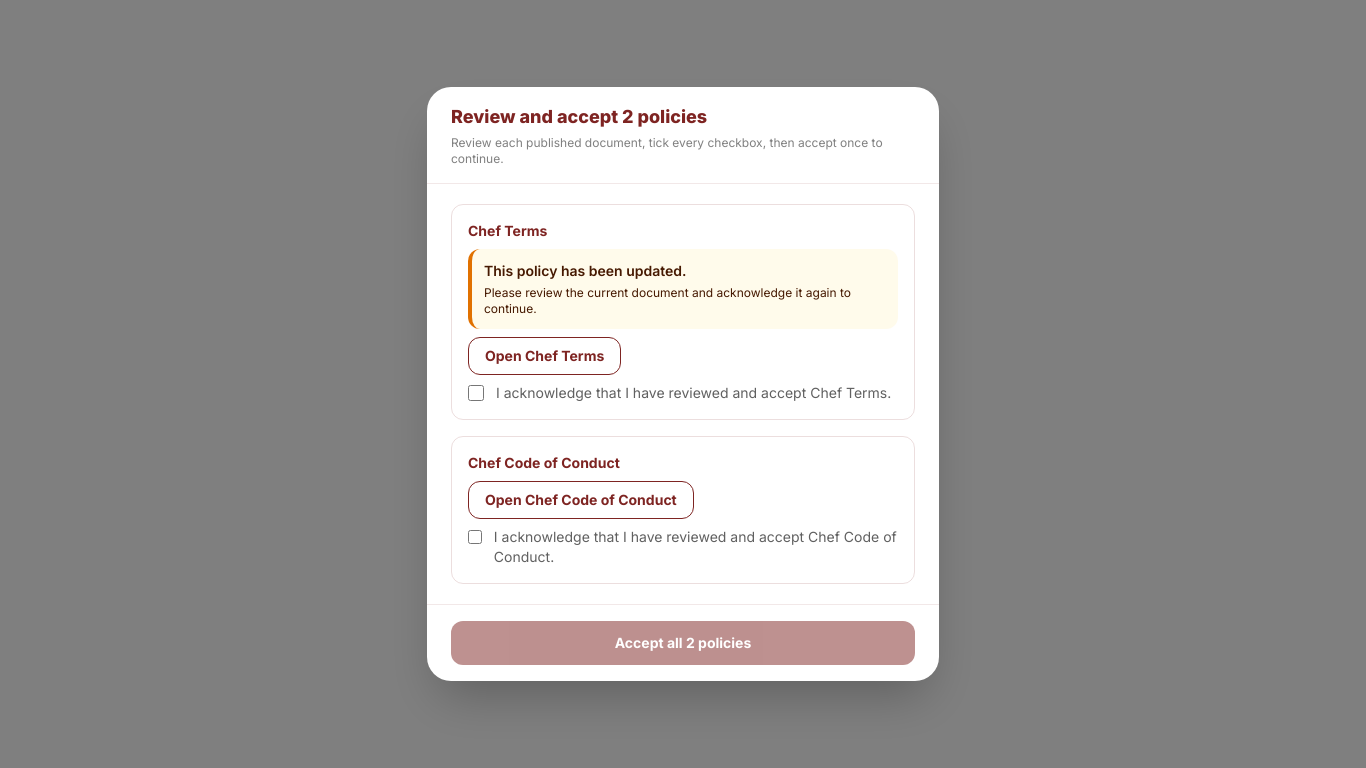
Test: PolicyAcceptanceModal › lists every pending policy at once and accepts them all with a single confirmation
Check: the heading "Review and accept 2 policies" is shown, box [451, 103, 707, 131]
Check: the link "Open Chef Terms" is shown, box [468, 337, 621, 375]
Click the checkbox labelled "I acknowledge that I have reviewed and accept Chef Terms." at (476, 393), box [468, 385, 484, 401]
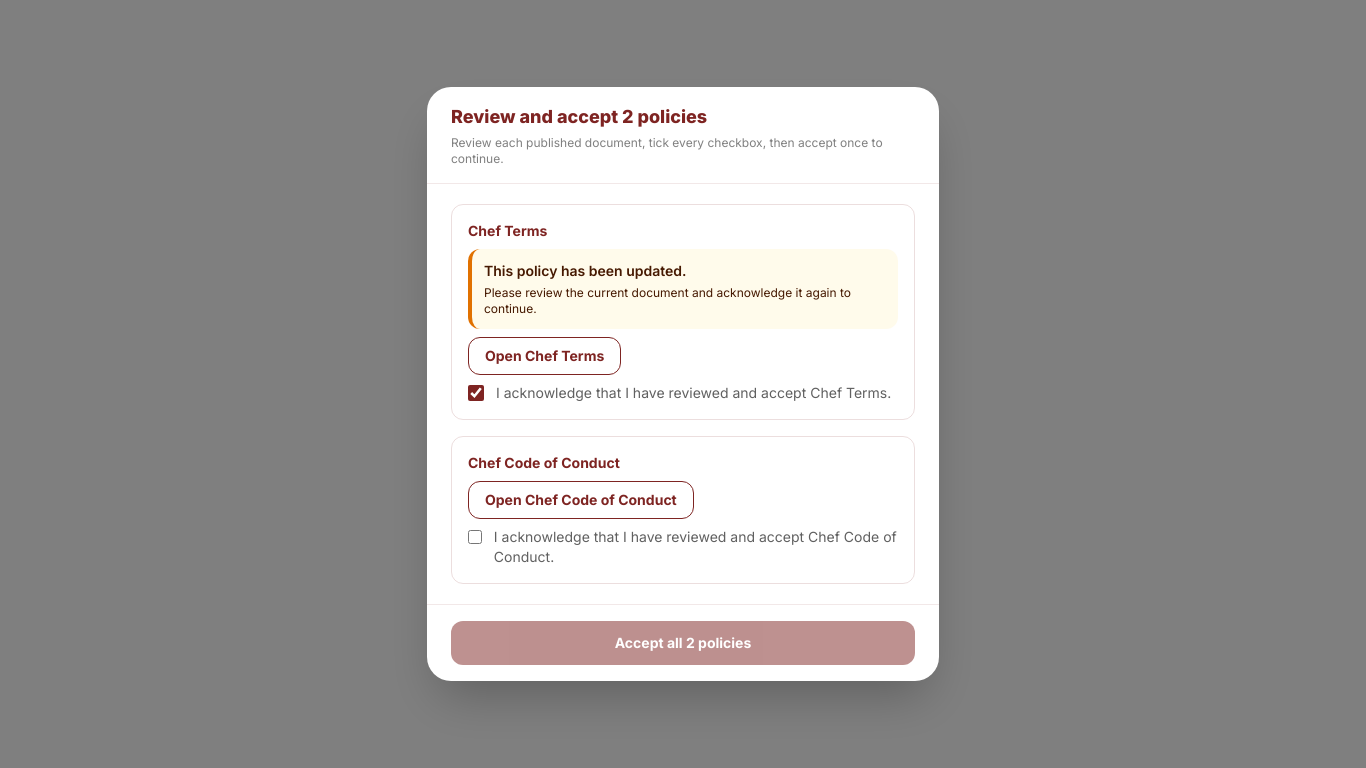
Check: the button "Accept all 2 policies" is disabled, box [451, 621, 915, 665]
Click the checkbox labelled "accept Chef Code of Conduct" at (475, 537), box [468, 529, 482, 545]
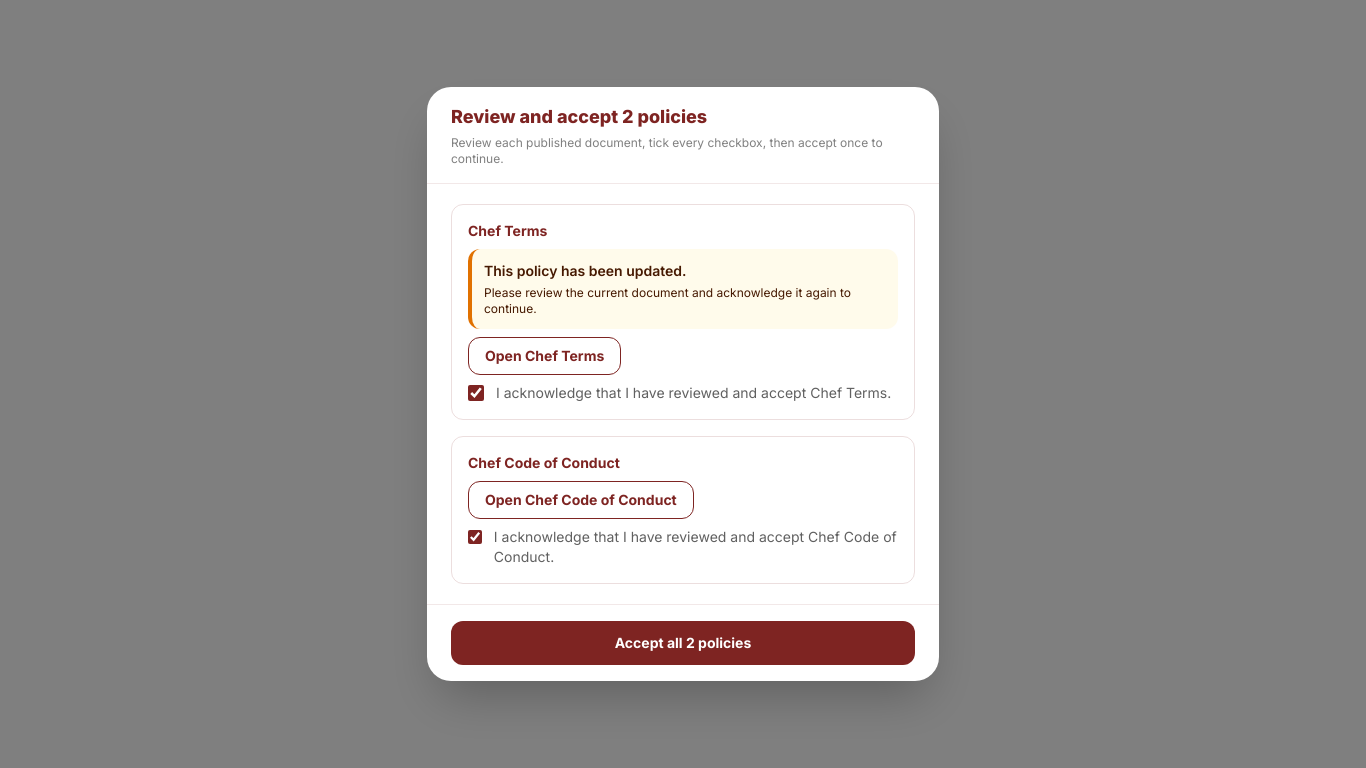
Check: the button "Accept all 2 policies" is enabled
Click the button "Accept all 2 policies" at (683, 643), box [451, 621, 915, 665]
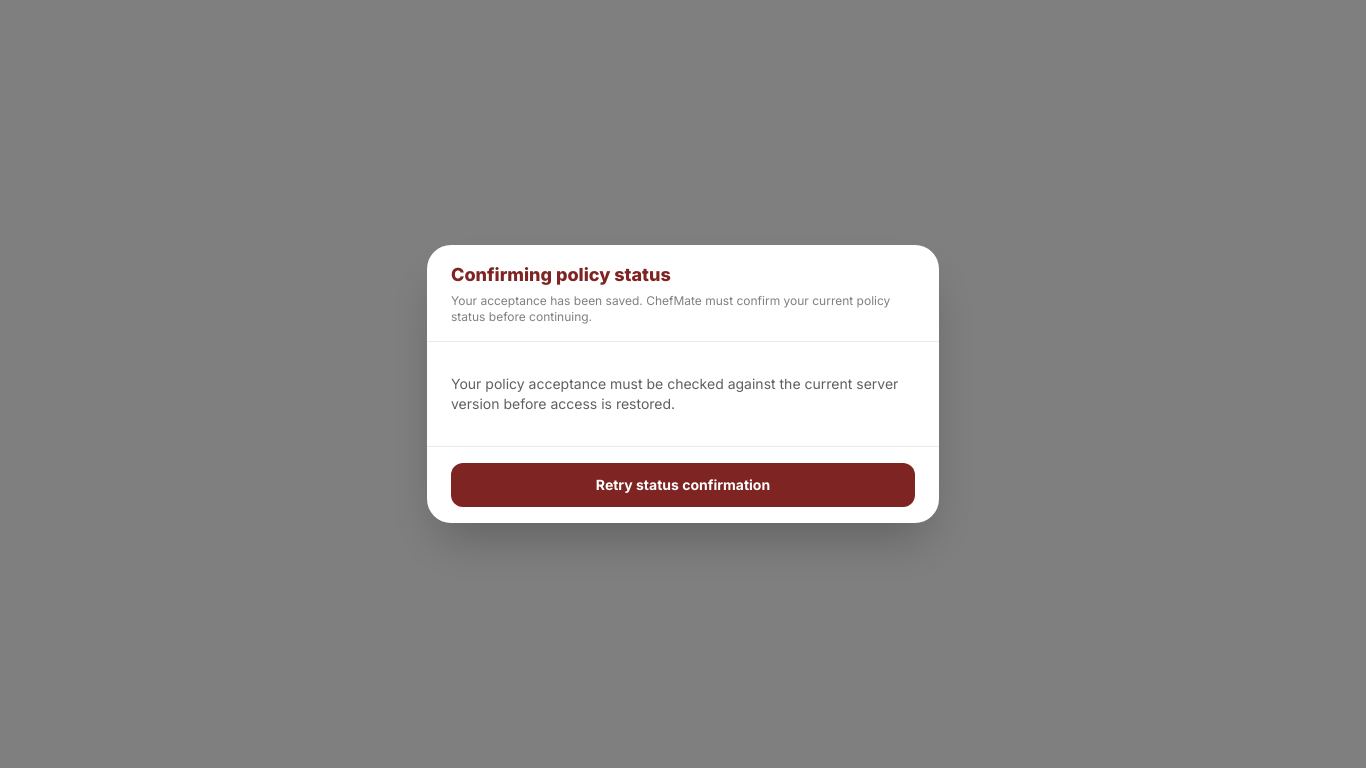
Check: the heading "Confirming policy status" is shown, box [451, 261, 671, 289]
